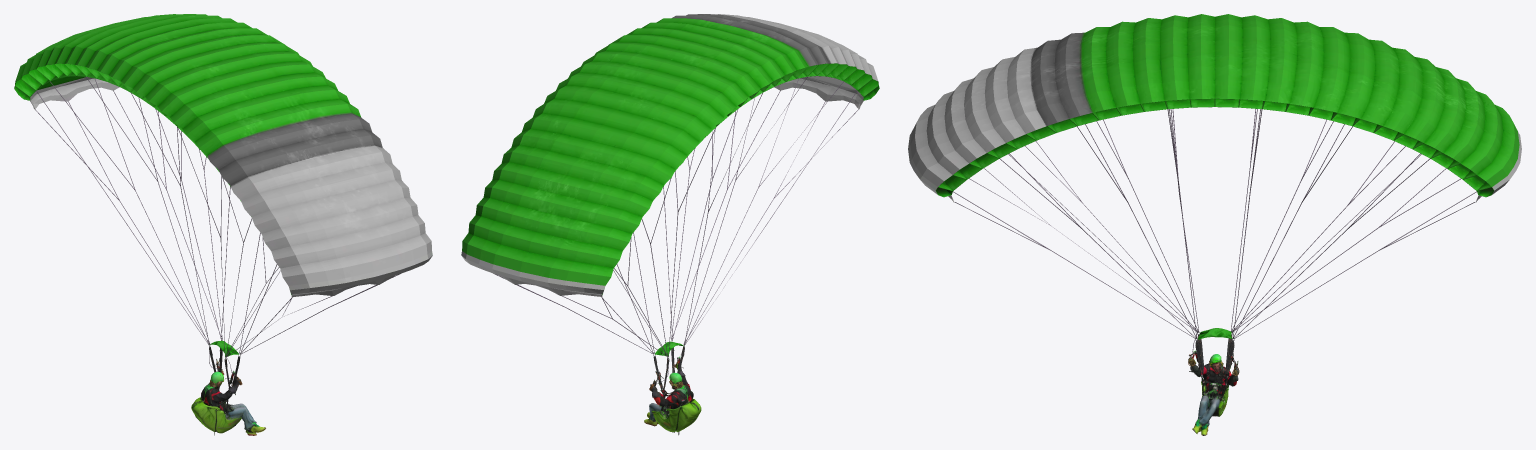
The model's file is paraglider-transformed.glb.
The picture shows the model from 3 angles, left to right: view 1: azimuth 30°, elevation 25°; view 2: azimuth 150°, elevation 25°; view 3: azimuth 270°, elevation 25°; orthographic projection.
Visible parts, largest first — view 1: Parachute_skinned.mo, Mesh_0; view 2: Parachute_skinned.mo, Mesh_0; view 3: Parachute_skinned.mo, Mesh_0.
Part boxes in pixels (box(x1,y1,x2,y2)): Parachute_skinned.mo: box(14, 14, 432, 386); Mesh_0: box(191, 358, 265, 435); Parachute_skinned.mo: box(461, 14, 879, 390); Mesh_0: box(644, 356, 701, 435); Parachute_skinned.mo: box(908, 14, 1521, 375); Mesh_0: box(1188, 349, 1238, 435).
Bounding box in the file's own units: 11.91 × 26.54 × 38.72.
2 materials, 2 textured.
